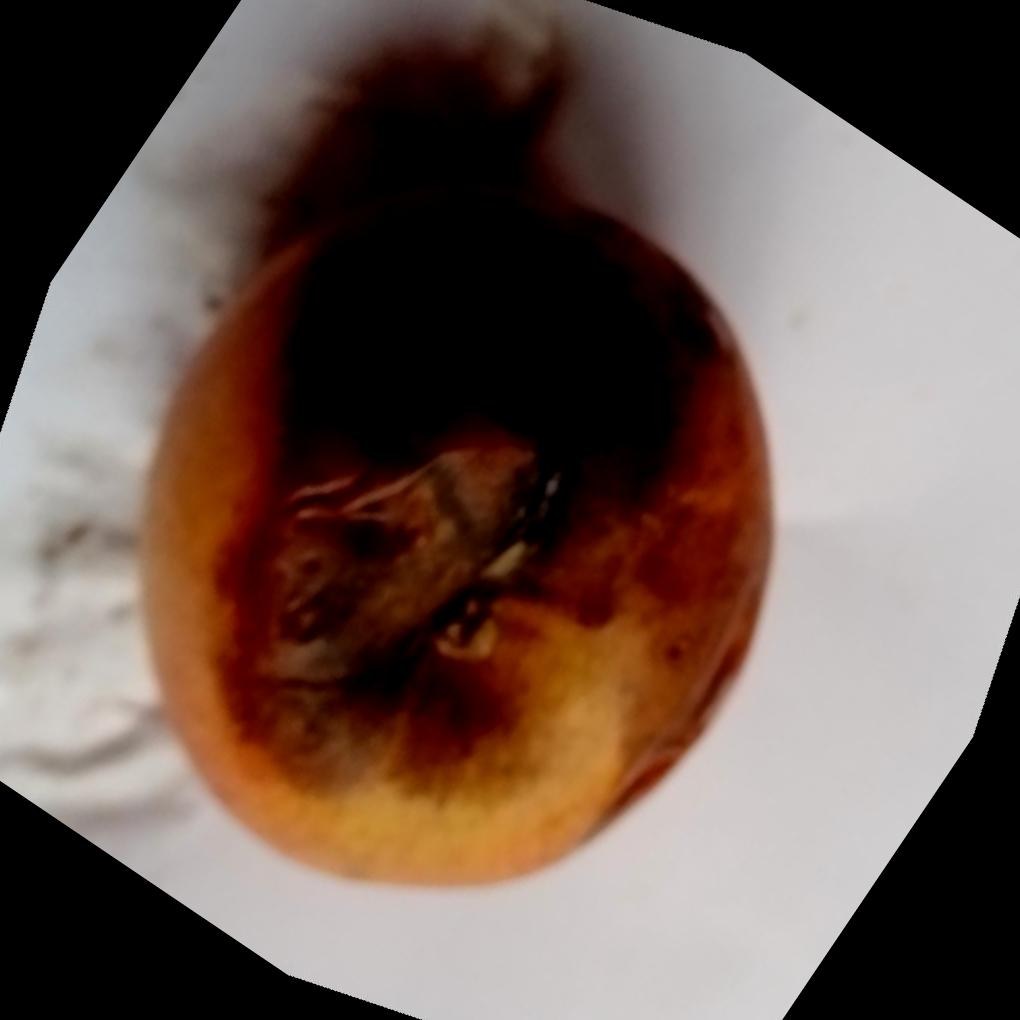FreshOrange: (132, 168, 775, 887)
